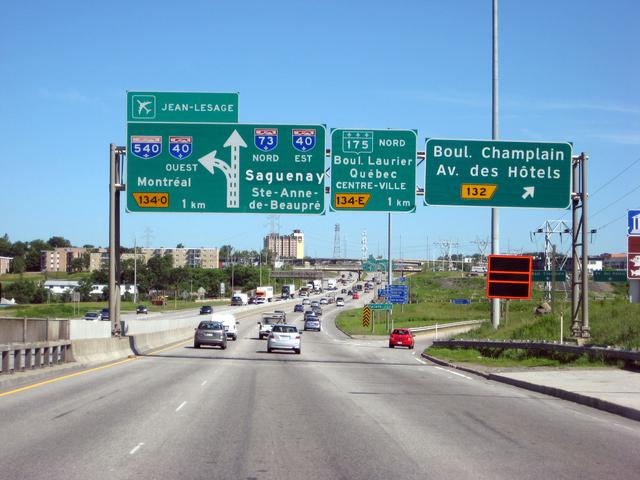autre: (127, 92, 324, 214), (427, 139, 572, 208), (332, 129, 417, 213)
